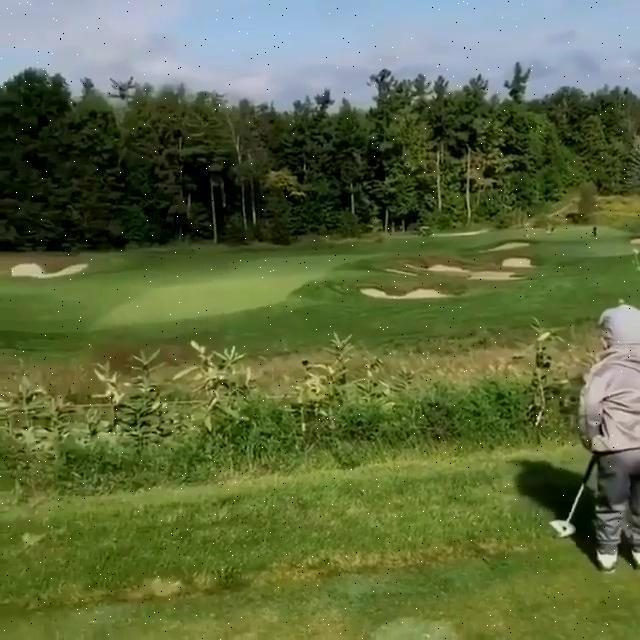ClubHead: (549, 519, 579, 539)
